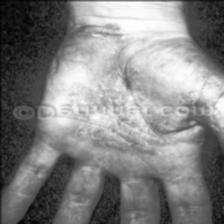Non-Cancerous Skin Condition: (81, 60, 145, 102), (73, 116, 149, 146)
